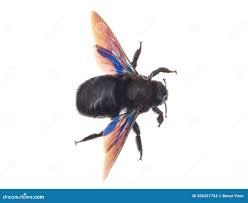Xylocopa: (68, 8, 178, 181)
